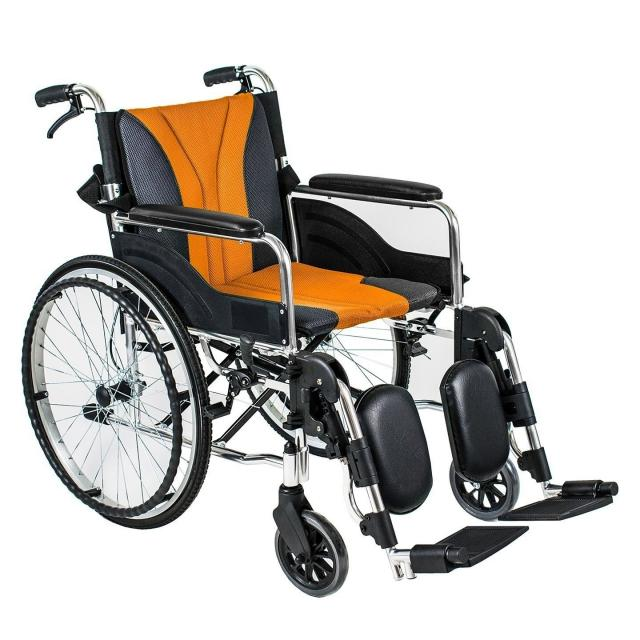wheelchair: (14, 62, 629, 602)
